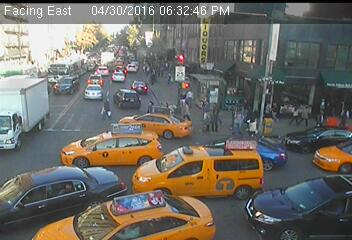neg: (281, 24, 310, 63), (133, 190, 159, 225), (16, 88, 40, 120), (10, 179, 33, 209), (100, 189, 122, 218), (182, 159, 203, 187), (244, 10, 264, 36), (130, 68, 149, 93), (303, 186, 322, 210), (161, 34, 180, 58), (24, 34, 42, 59), (58, 42, 76, 66), (244, 38, 262, 61), (332, 63, 350, 86), (226, 157, 243, 180), (65, 102, 82, 125), (319, 146, 336, 168), (201, 35, 217, 57), (73, 14, 89, 36), (200, 148, 216, 169), (119, 135, 135, 156), (47, 165, 63, 186), (114, 33, 129, 52), (26, 136, 40, 155), (83, 137, 97, 156), (92, 60, 106, 78), (61, 127, 75, 145), (185, 13, 198, 31), (45, 71, 57, 87), (278, 76, 290, 92), (236, 80, 247, 94), (109, 12, 120, 26), (262, 136, 272, 150)
pos: (189, 95, 220, 135), (311, 94, 335, 126), (206, 99, 229, 129), (171, 98, 193, 127), (294, 103, 316, 132), (334, 98, 351, 124), (228, 110, 245, 133), (264, 99, 281, 122), (244, 110, 261, 133), (99, 95, 115, 116), (181, 85, 197, 106), (288, 102, 303, 122), (160, 99, 174, 118), (144, 100, 156, 115), (165, 71, 176, 85)
